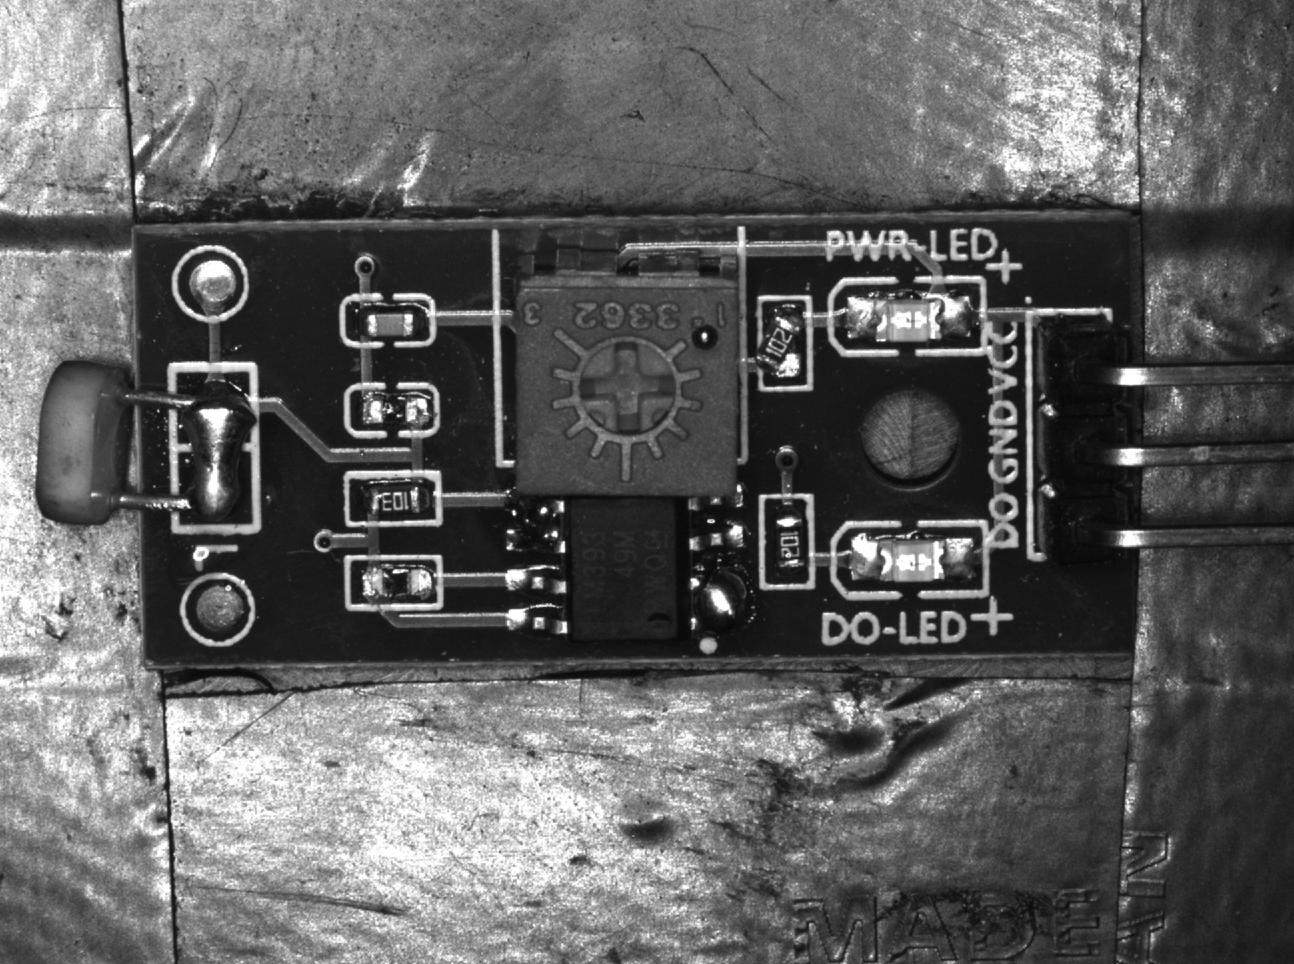bridge: (169, 361, 259, 533), (690, 564, 755, 654), (506, 495, 569, 563)
lifted: (756, 296, 811, 389)
miss: (338, 555, 443, 613), (349, 385, 436, 435)
ok: (339, 297, 436, 350), (343, 472, 440, 525), (763, 495, 808, 584)
